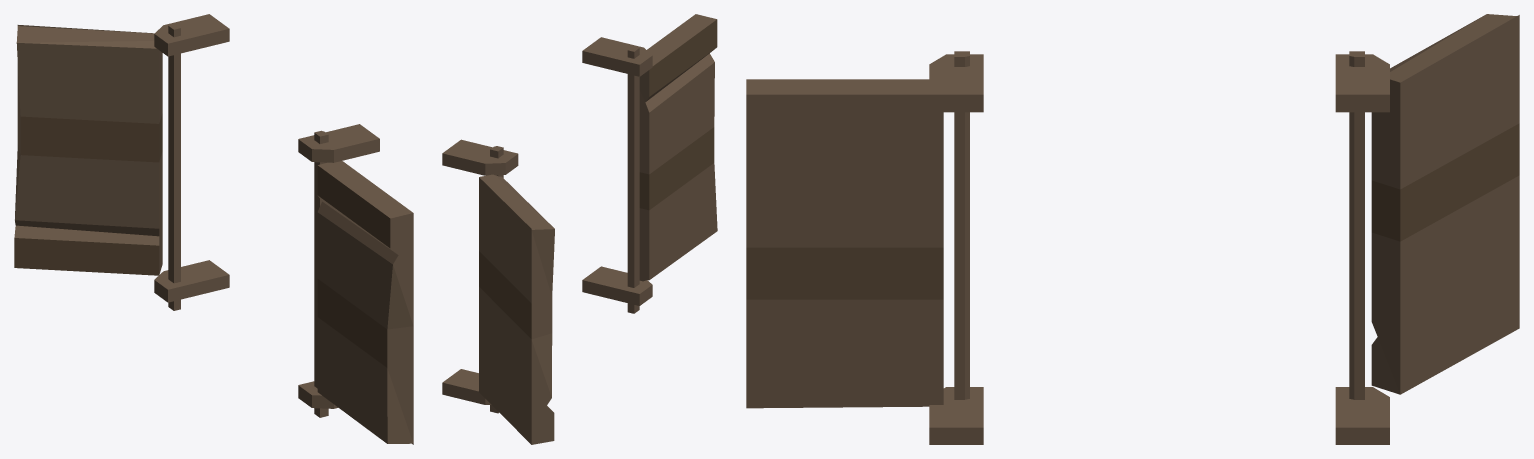
The model's file is EA03_Prop_House_Shutter_01a.glb.
3 renders of one model, left to right at view 1: azimuth 30°, elevation 25°; view 2: azimuth 150°, elevation 25°; view 3: azimuth 270°, elevation 25°, orthographic. The views are drawn at different scales.
Parts seen in each view (by area): view 1: EA03_Prop_House_Shutter_01a; view 2: EA03_Prop_House_Shutter_01a; view 3: EA03_Prop_House_Shutter_01a.
Part boxes in pixels (x1,y1,x2,y2): EA03_Prop_House_Shutter_01a: (14, 14, 413, 444); EA03_Prop_House_Shutter_01a: (442, 14, 717, 444); EA03_Prop_House_Shutter_01a: (746, 14, 1519, 444).
Bounding box in the file's own units: 0.9421 × 1.61 × 2.96.
Materials: 1 (1 with a texture image).
